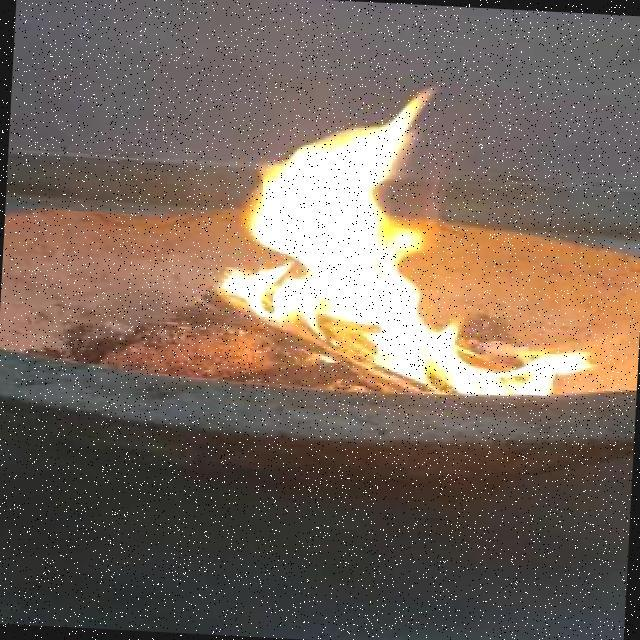Fire: (162, 63, 629, 418)
